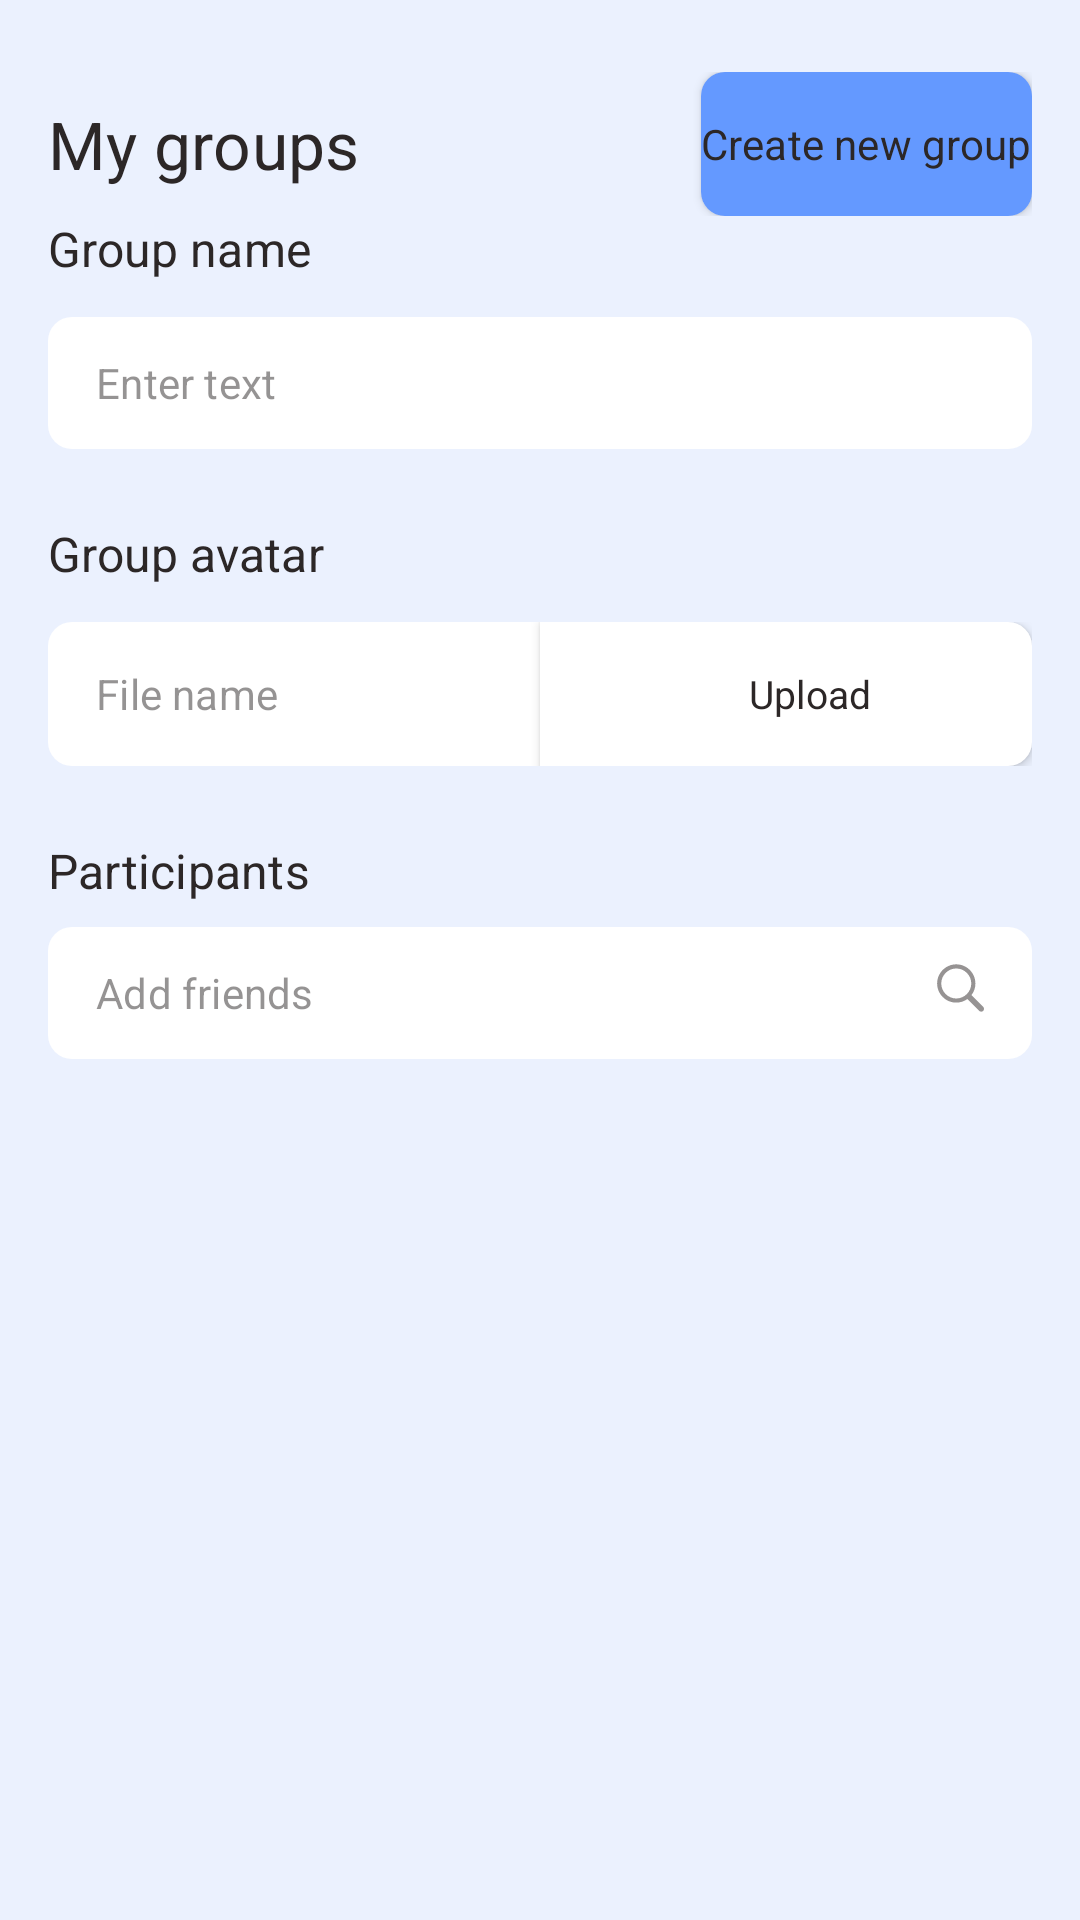

Screen size 1080w x 1920h. Icon name, then its box in pixels as detection(x1, y1, x2, y2):
search: detection(937, 964, 984, 1012)
